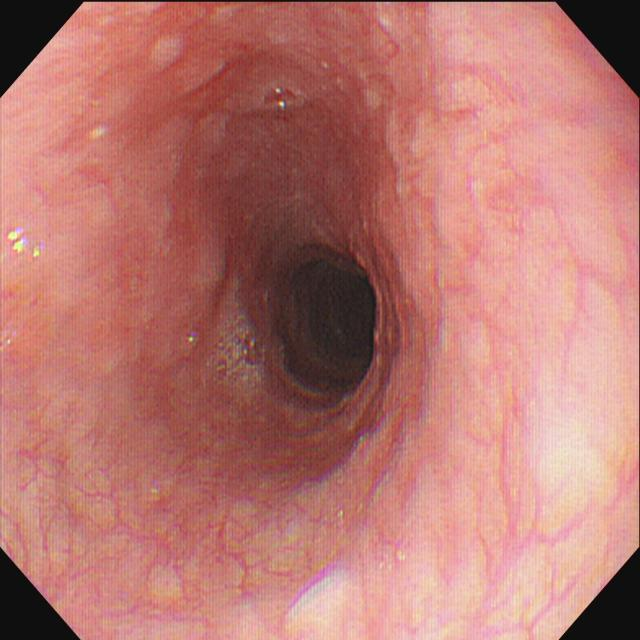E: (273, 249, 380, 399)
T: (210, 318, 267, 389), (263, 86, 302, 111)
U: (6, 229, 42, 260)
